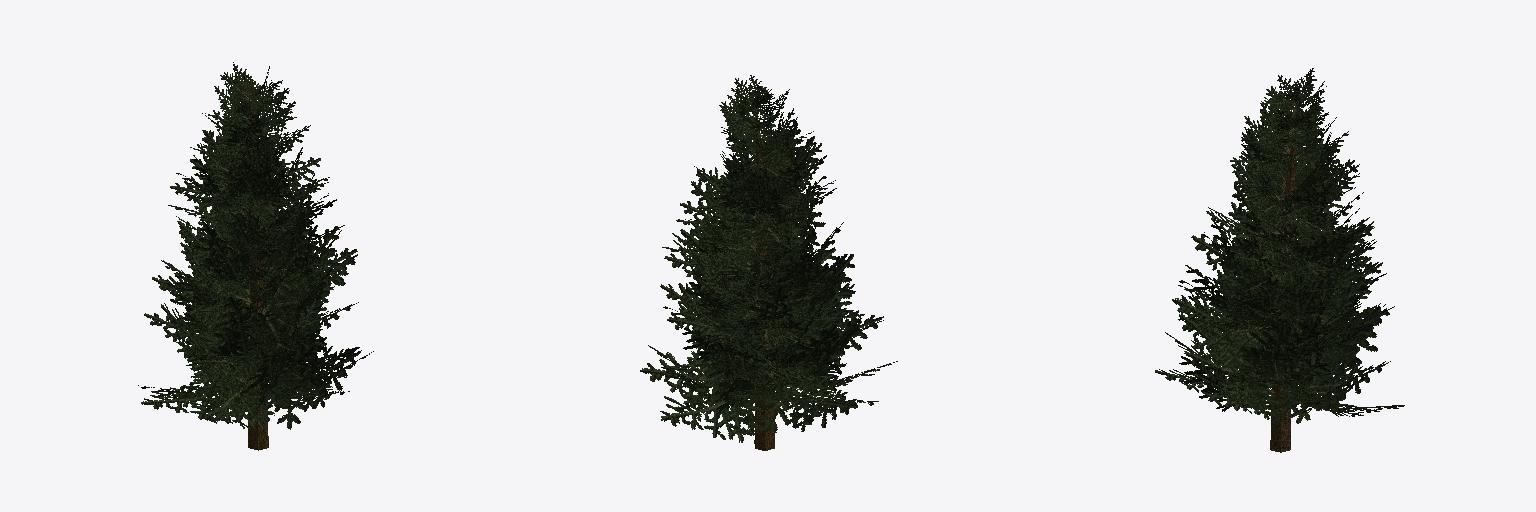
3 views of the same model, side by side, from view 1: azimuth 30°, elevation 25°; view 2: azimuth 150°, elevation 25°; view 3: azimuth 270°, elevation 25° (orthographic).
Parts seen in each view (by area): view 1: Default; view 2: Default; view 3: Default.
Boxes of the visible parts, box(x1,y1,x2,y2) form: Default: box(138, 62, 373, 450); Default: box(640, 75, 897, 450); Default: box(1155, 68, 1404, 452).
Bounding box in the file's own units: 7.6 × 10.61 × 7.66.
2 materials, 2 textured.